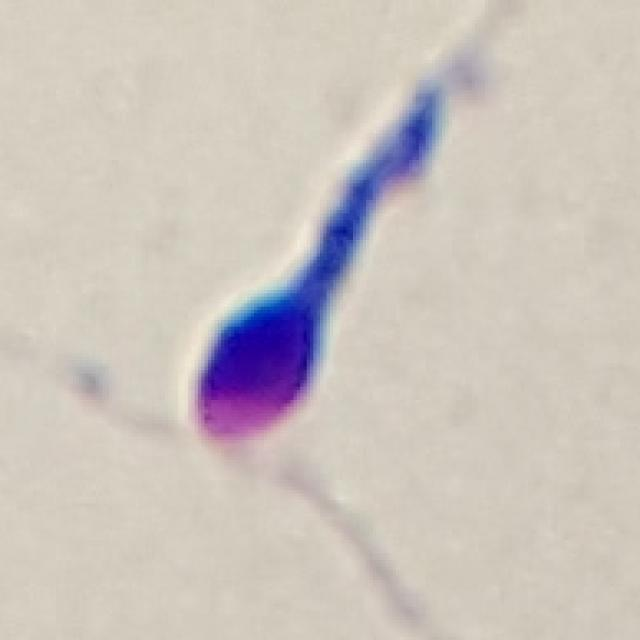abnormal sperm: (188, 50, 472, 444)
